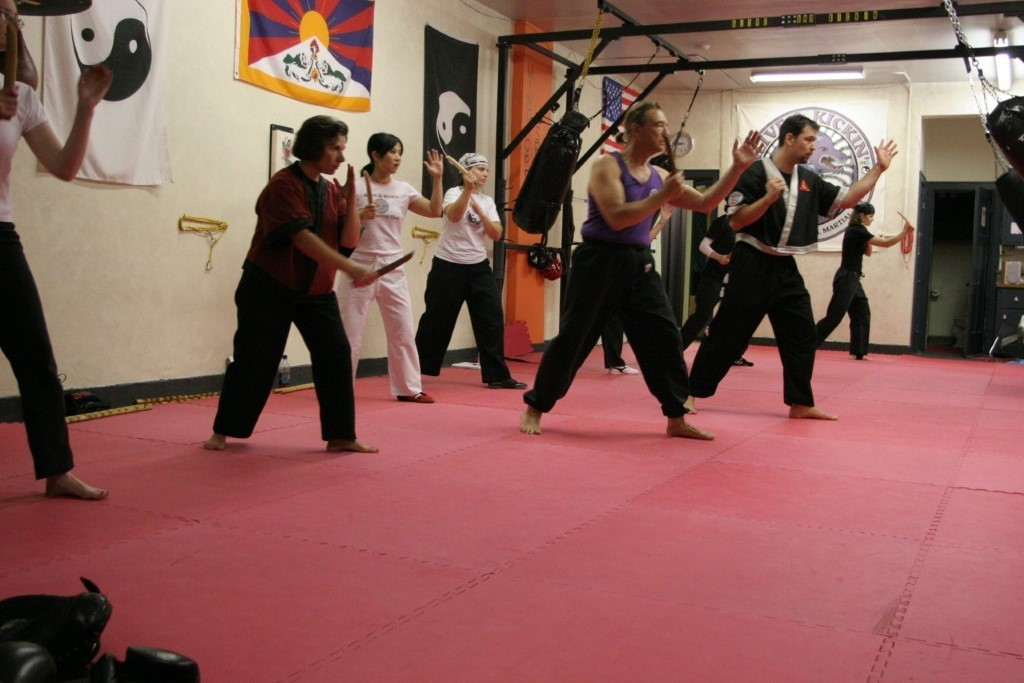baston_e: (67, 403, 144, 423), (375, 250, 409, 279), (149, 390, 216, 404), (661, 139, 675, 170), (277, 382, 313, 392), (362, 173, 373, 203), (450, 156, 466, 176), (284, 384, 313, 394), (897, 213, 909, 223)
baston_v: (405, 248, 420, 261), (658, 129, 672, 140), (132, 397, 142, 405), (443, 153, 452, 161), (360, 168, 369, 175), (895, 207, 901, 213), (271, 388, 277, 394), (279, 389, 284, 394)
